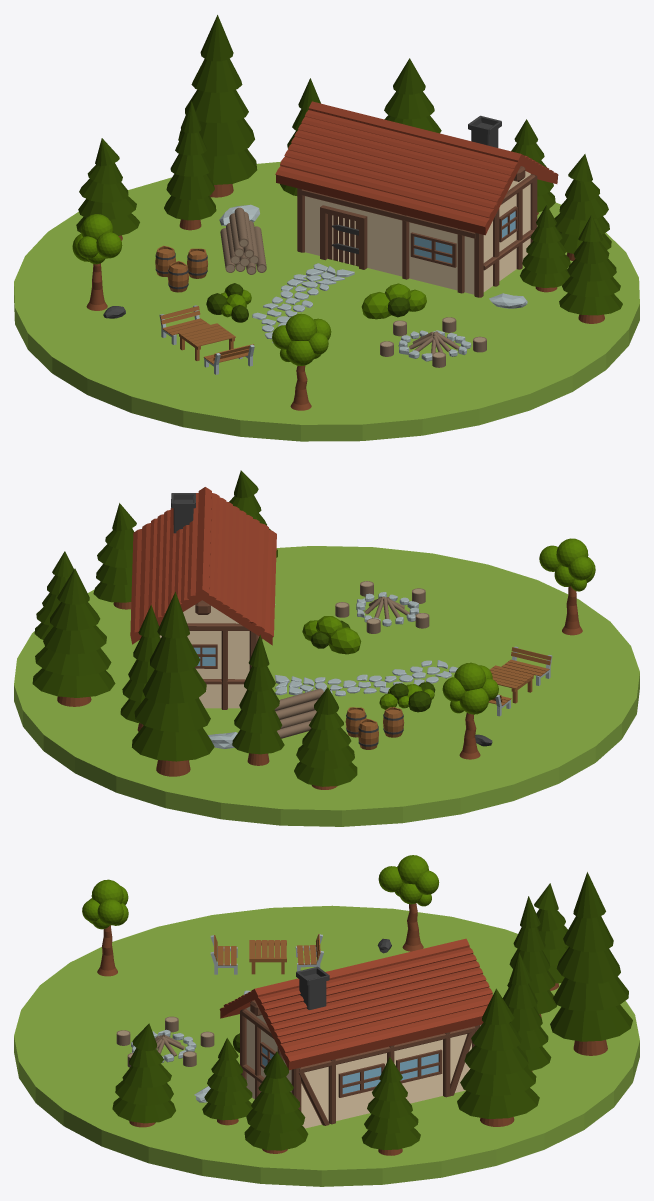
File: farm.glb
3 renders of one model, top to bottom at view 1: azimuth 30°, elevation 25°; view 2: azimuth 150°, elevation 25°; view 3: azimuth 270°, elevation 25°, orthographic.
Parts seen in each view (by area): view 1: Low Poly Garden, House, Tree.006, Tree, Tree.007, Tree.008, Tree.002, Tree.010, Tree.001, Tree.009, Alley, Log pile (+11 smaller); view 2: Low Poly Garden, House, Tree.006, Tree.004, Tree.008, Tree.007, Tree.002, Tree.009, Tree.010, Alley, Tree.005, Bush (+11 smaller); view 3: Low Poly Garden, House, Tree.006, Tree.004, Tree, Tree.002, Tree.003, Tree.005, Tree.001, Tree.009, Tree.007, Tree.010 (+6 smaller).
Boxes of the visible parts, bbox=[...] form: Low Poly Garden: bbox=[14, 161, 639, 441]; House: bbox=[275, 101, 558, 297]; Tree.006: bbox=[178, 15, 257, 197]; Tree: bbox=[559, 215, 622, 323]; Tree.007: bbox=[164, 101, 216, 230]; Tree.008: bbox=[76, 138, 139, 240]; Tree.002: bbox=[554, 154, 611, 260]; Tree.010: bbox=[272, 313, 331, 410]; Tree.001: bbox=[520, 205, 570, 292]; Tree.009: bbox=[72, 214, 122, 310]; Alley: bbox=[252, 263, 354, 343]; Log pile: bbox=[220, 207, 266, 274]; Low Poly Garden: bbox=[14, 546, 639, 826]; House: bbox=[130, 487, 276, 709]; Tree.006: bbox=[132, 591, 214, 776]; Tree.004: bbox=[32, 568, 115, 706]; Tree.008: bbox=[294, 687, 357, 789]; Tree.007: bbox=[232, 635, 284, 765]; Tree.002: bbox=[93, 503, 136, 609]; Tree.009: bbox=[442, 662, 498, 759]; Tree.010: bbox=[539, 538, 595, 635]; Alley: bbox=[275, 660, 457, 696]; Tree.005: bbox=[120, 605, 160, 731]; Bush: bbox=[302, 616, 361, 654]; Low Poly Garden: bbox=[14, 905, 639, 1186]; House: bbox=[219, 938, 492, 1128]; Tree.006: bbox=[550, 872, 632, 1055]; Tree.004: bbox=[457, 988, 539, 1126]; Tree: bbox=[112, 1023, 175, 1127]; Tree.002: bbox=[244, 1051, 308, 1153]; Tree.003: bbox=[361, 1057, 420, 1155]; Tree.005: bbox=[502, 952, 551, 1071]; Tree.001: bbox=[202, 1038, 252, 1125]; Tree.009: bbox=[378, 855, 439, 951]; Tree.007: bbox=[507, 896, 556, 1017]; Tree.010: bbox=[82, 879, 128, 976].
Size of the model in its own units: 1.92 by 0.6548 by 1.92.
